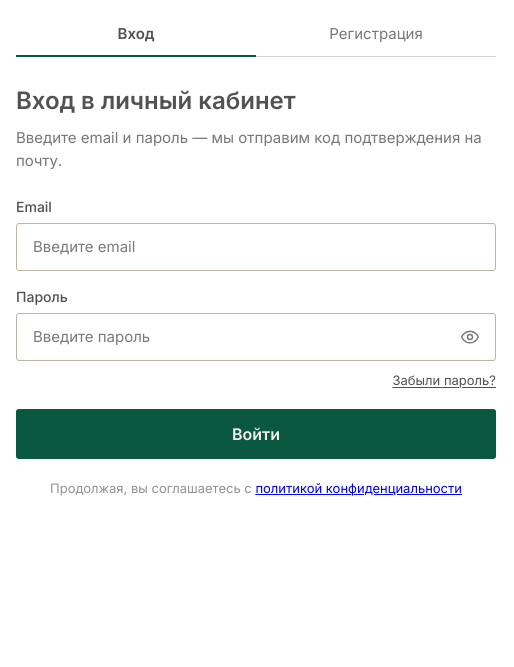
AccountAuth › switches to registration form
The width and height of the screenshot is (514, 667).
Click the button "Регистрация": (376, 34) [256, 12, 496, 57]
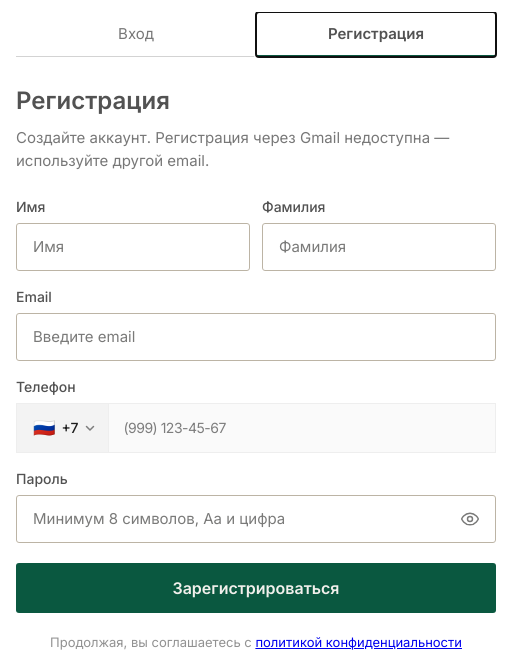
Check: the heading "Регистрация" is shown, box [16, 86, 170, 115]
Check: the field labelled "Имя" is shown, box [16, 223, 250, 271]
Check: the field labelled "Фамилия" is shown, box [262, 223, 496, 271]
